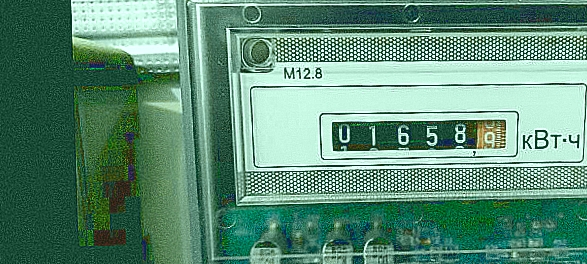0: (337, 121, 350, 144)
1: (367, 124, 378, 146)
5: (424, 123, 439, 146)
6: (395, 123, 410, 145)
8: (452, 121, 467, 143)
9: (480, 129, 495, 150)
screen: (312, 101, 526, 167)
